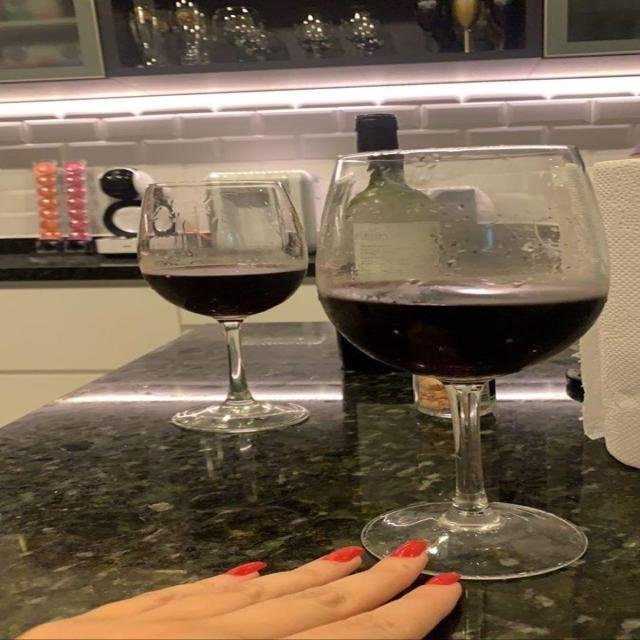glass-wine: (310, 150, 612, 578), (132, 176, 316, 433)
